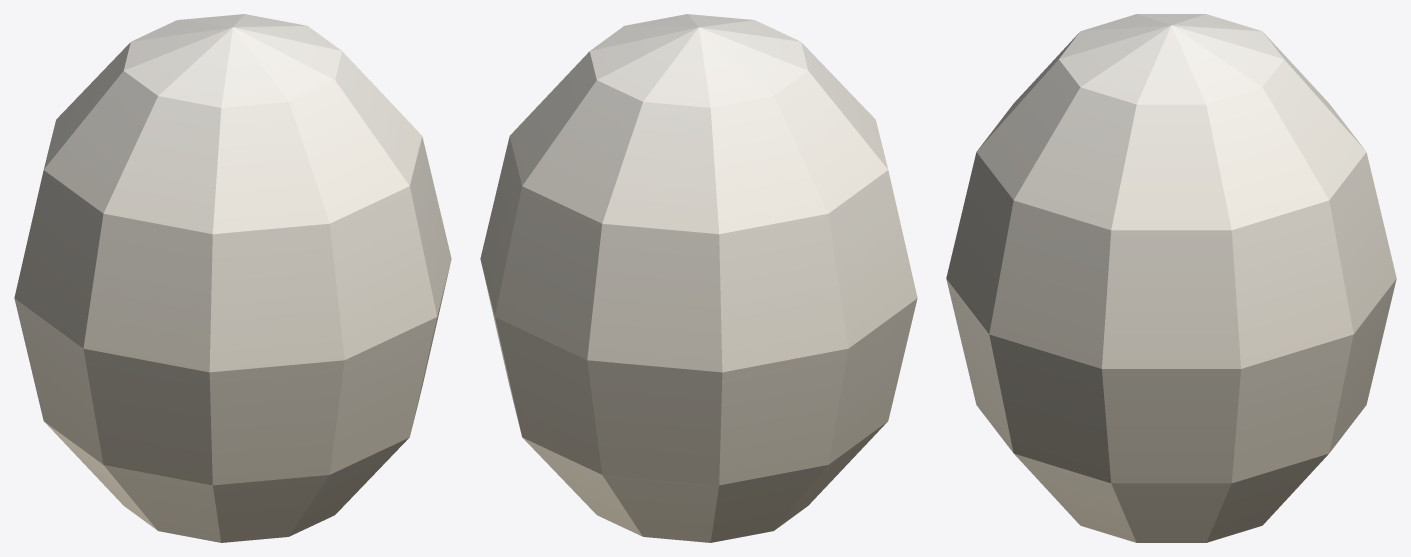
The model's file is egg_2.fbx.
3 views of the same model, side by side, from view 1: azimuth 30°, elevation 25°; view 2: azimuth 150°, elevation 25°; view 3: azimuth 270°, elevation 25° (orthographic).
Visible parts, largest first — view 1: egg_2; view 2: egg_2; view 3: egg_2.
Part boxes in pixels (x1,y1,x2,y2): egg_2: (14,14,451,542); egg_2: (480,14,917,542); egg_2: (946,14,1396,542).
Bounding box in the file's own units: 0.0667 × 0.0811 × 0.0701.
